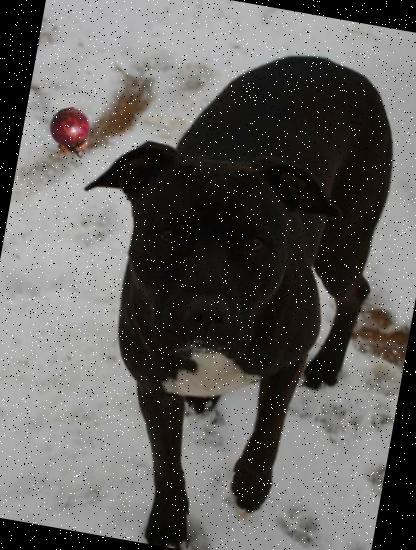Mangostan: (40, 103, 102, 164)
